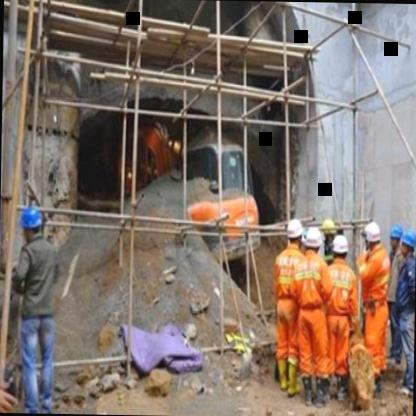helmet: (14, 200, 48, 244), (361, 216, 384, 252), (285, 214, 308, 248), (328, 233, 353, 263), (398, 223, 416, 256), (303, 225, 323, 254), (388, 222, 404, 250)
